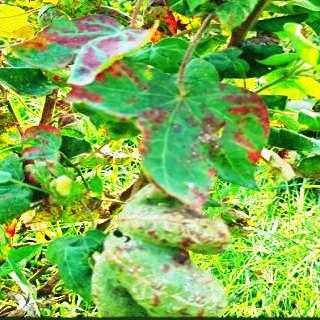blight: (53, 39, 284, 214)
